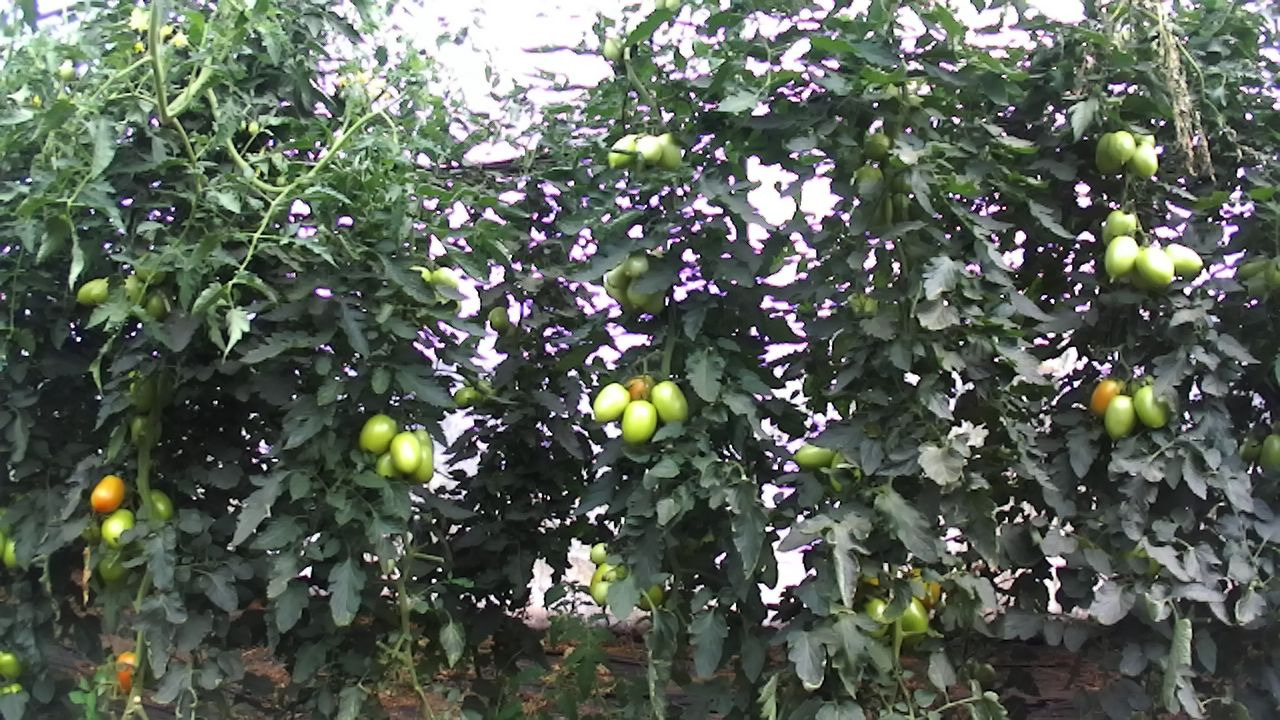tomato: (649, 379, 692, 428), (1131, 383, 1172, 434), (1131, 244, 1176, 290), (1101, 233, 1140, 286), (619, 396, 658, 448), (355, 410, 398, 456), (590, 378, 631, 425), (1104, 393, 1139, 445), (387, 428, 421, 476), (88, 472, 125, 516), (1164, 241, 1205, 277), (1126, 139, 1161, 181), (1086, 377, 1120, 420), (98, 509, 134, 548), (1093, 129, 1123, 175), (1104, 127, 1135, 168), (791, 442, 839, 467), (73, 274, 107, 308), (0, 648, 24, 682)
